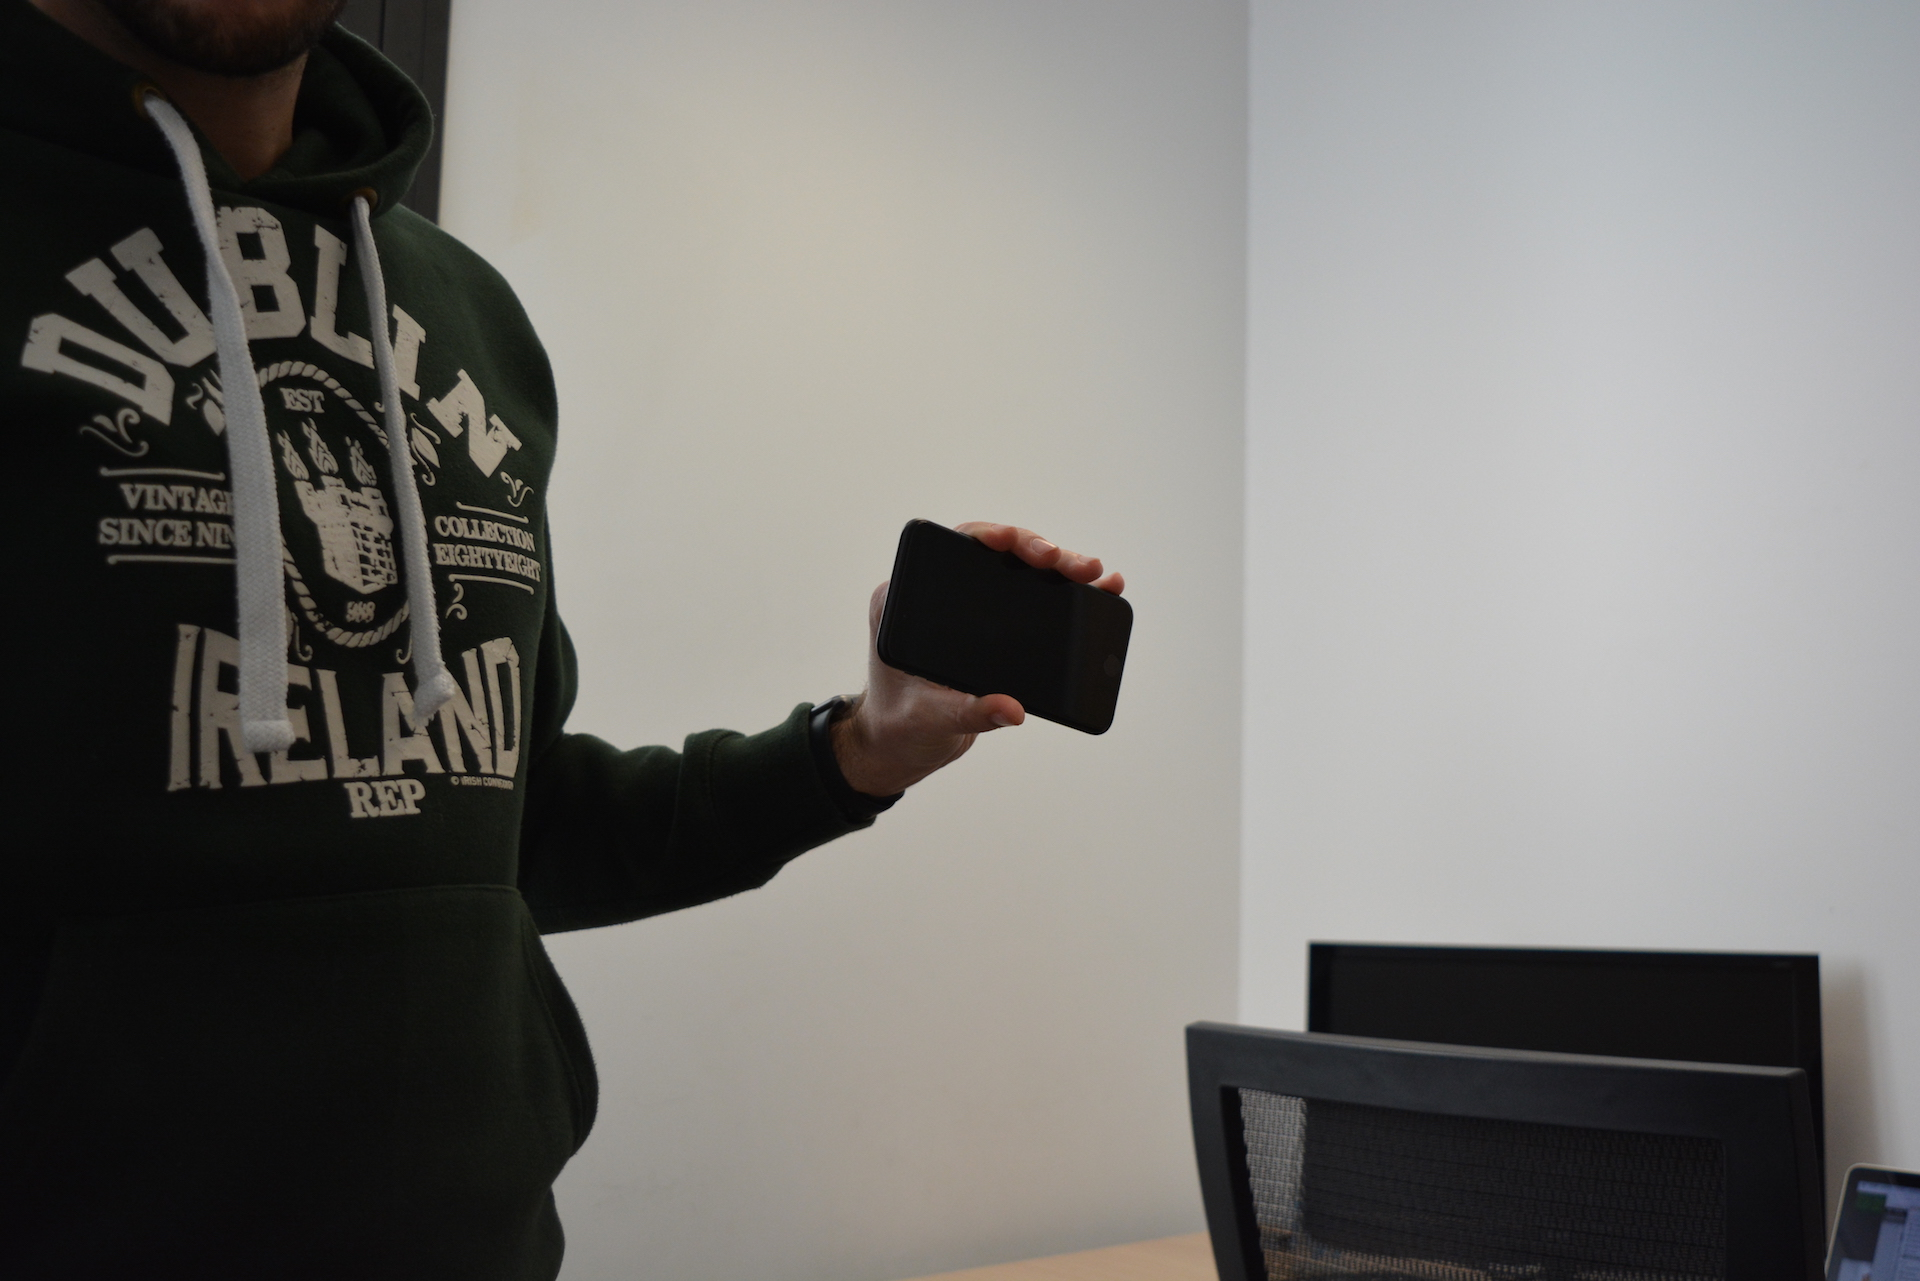smartphone: (874, 516, 1135, 738)
